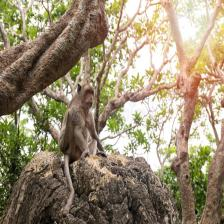monkey: (59, 80, 108, 169)
